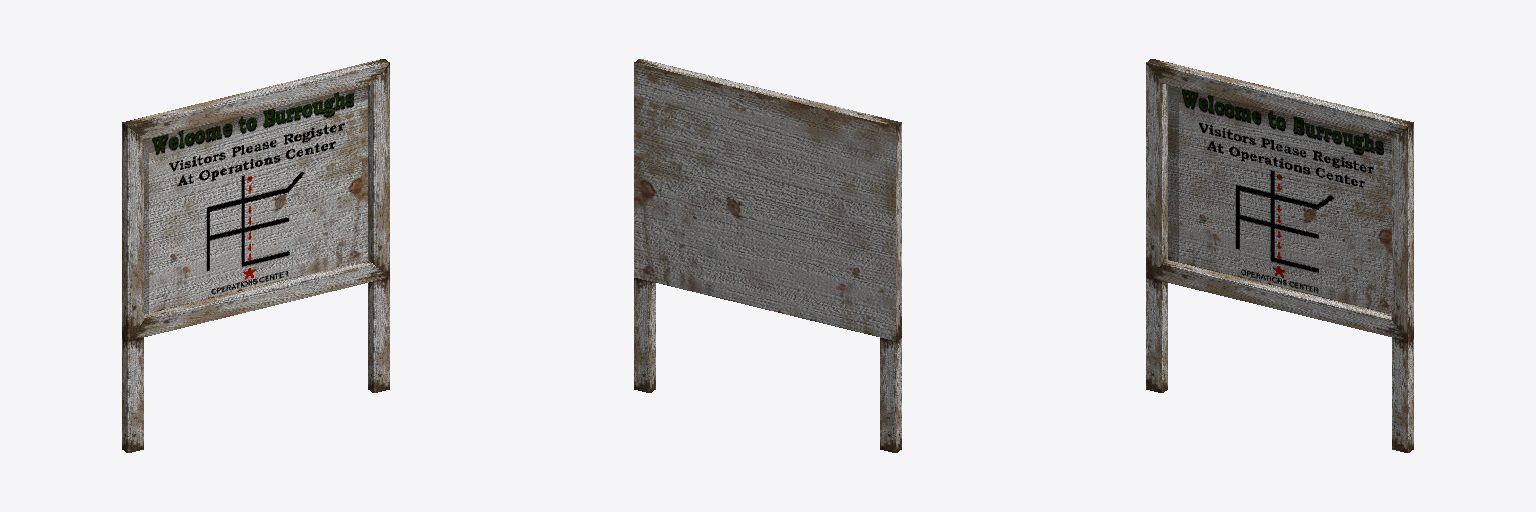
3 views of the same model, side by side, from view 1: azimuth 30°, elevation 25°; view 2: azimuth 150°, elevation 25°; view 3: azimuth 330°, elevation 25° (orthographic).
Visible parts, largest first — view 1: PWelcomSignNorth00-00.PWelcomSignNorth00-00_PWelcomSignNorth00-0; view 2: PWelcomSignNorth00-00.PWelcomSignNorth00-00_PWelcomSignNorth00-0; view 3: PWelcomSignNorth00-00.PWelcomSignNorth00-00_PWelcomSignNorth00-0.
Part boxes in pixels (x1,y1,x2,y2): PWelcomSignNorth00-00.PWelcomSignNorth00-00_PWelcomSignNorth00-0: (122, 59, 389, 452); PWelcomSignNorth00-00.PWelcomSignNorth00-00_PWelcomSignNorth00-0: (634, 59, 901, 452); PWelcomSignNorth00-00.PWelcomSignNorth00-00_PWelcomSignNorth00-0: (1146, 59, 1413, 452).
Bounding box in the file's own units: 1.68 × 2 × 0.065.
3 materials, 3 textured.